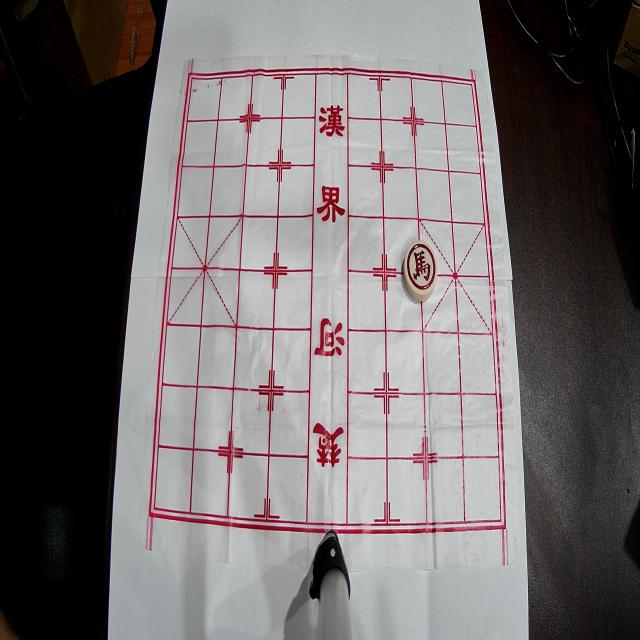red-horse: (403, 240, 438, 302)
